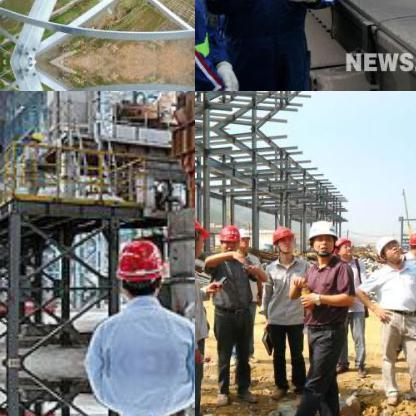Helmet: (110, 236, 164, 296), (304, 219, 336, 256), (268, 222, 298, 258), (374, 234, 404, 264), (217, 222, 243, 252), (195, 212, 207, 259), (334, 235, 353, 260), (405, 228, 415, 261), (236, 228, 250, 251), (26, 126, 44, 140)
